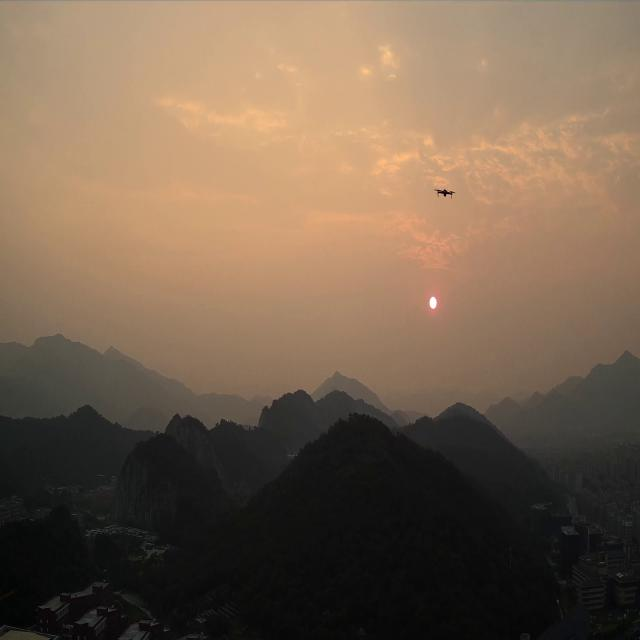UAV: (434, 188, 456, 198)
